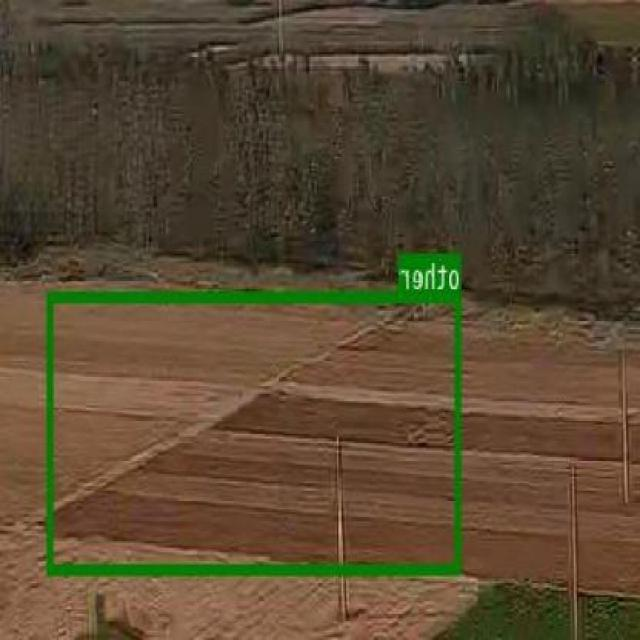other: (49, 292, 462, 574)
